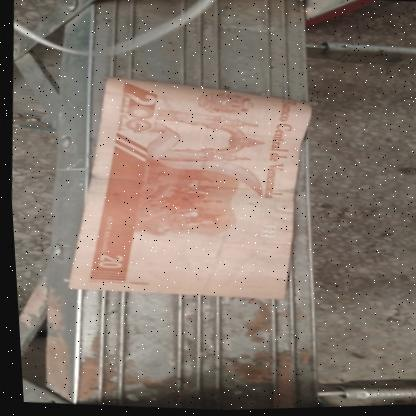twenty-back-vef: (54, 70, 322, 308)
